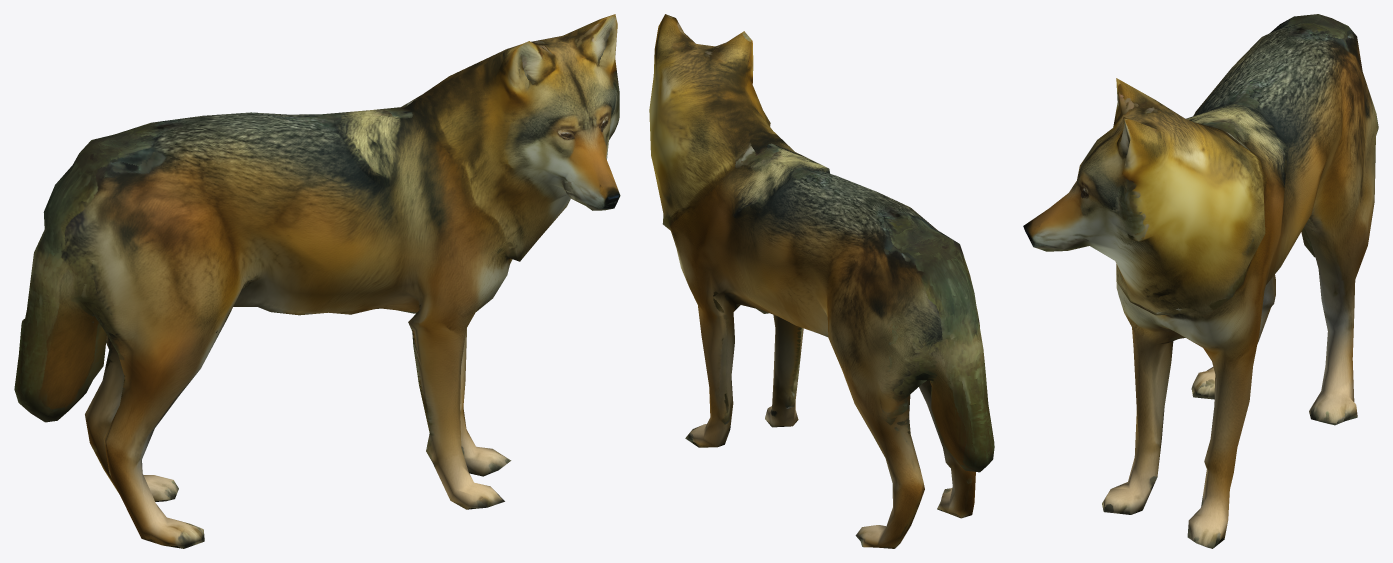
File: wolf_rusty_single_1500.glb
3 views of the same model, side by side, from view 1: azimuth 30°, elevation 25°; view 2: azimuth 150°, elevation 25°; view 3: azimuth 270°, elevation 25° (orthographic). The views are drawn at different scales.
Bounding box in the file's own units: 0.9057 × 0.8074 × 0.553.
Materials: 1 (1 with a texture image).
